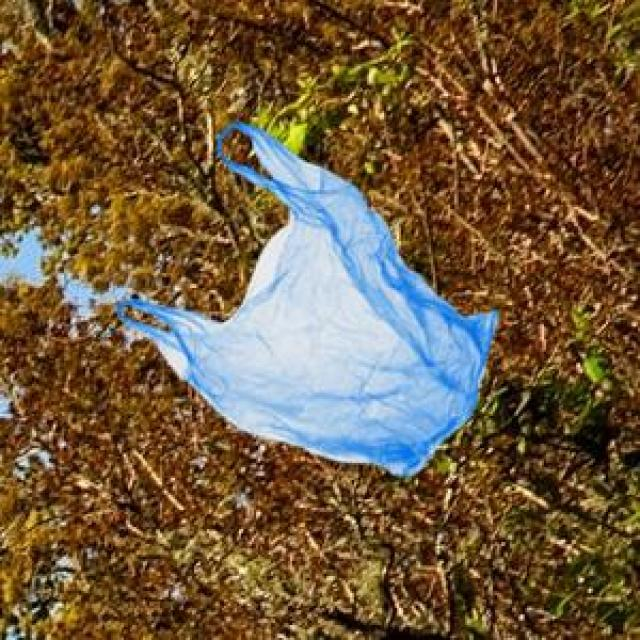plastic: (65, 105, 523, 495)
